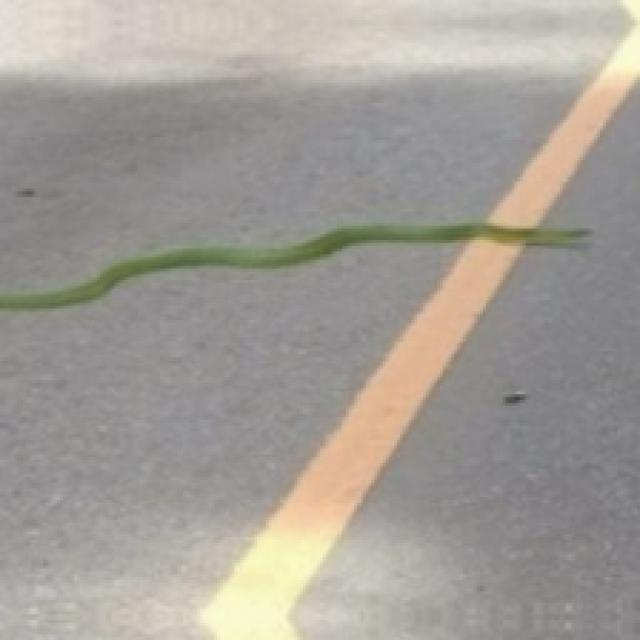red-tailed green ratsnake: (0, 223, 586, 306)
